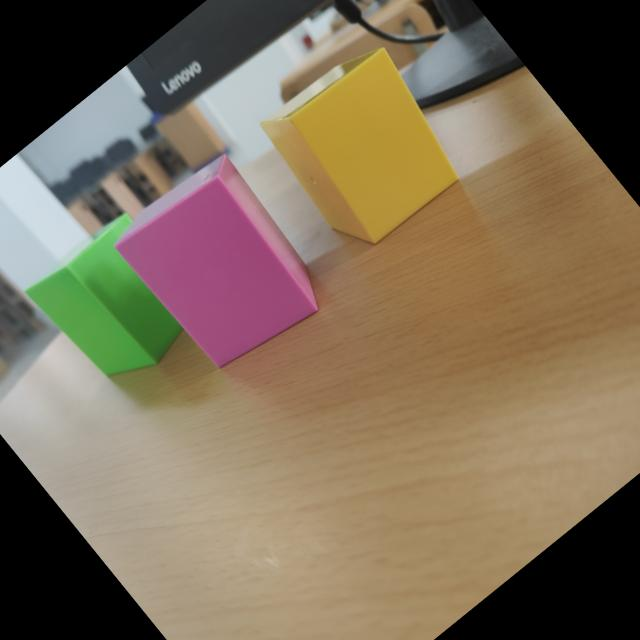green: (26, 214, 184, 378)
pink: (117, 153, 321, 369)
yellow: (262, 48, 458, 244)
